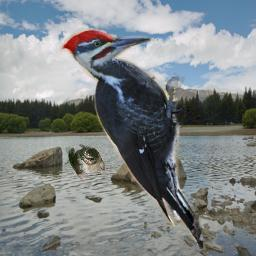Swallow: (63, 144, 106, 182)
Woodpecker: (60, 28, 203, 249)
